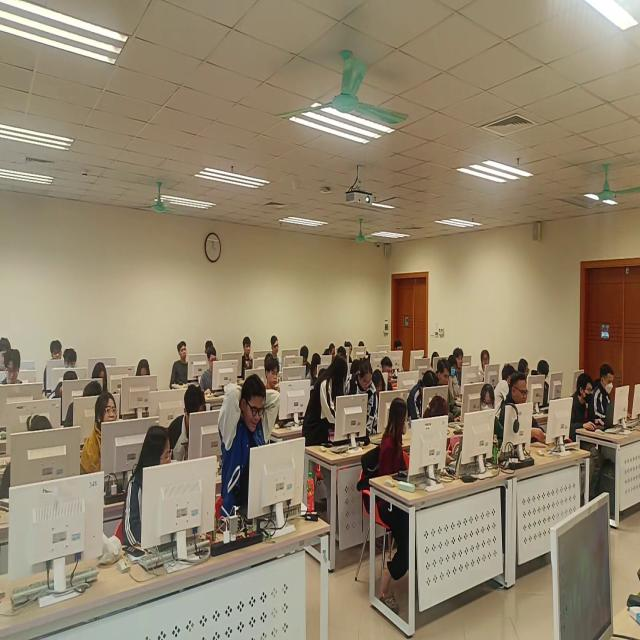raise_head: (90, 398, 135, 482), (170, 341, 202, 394), (239, 337, 259, 383), (480, 349, 500, 390), (47, 338, 67, 365), (270, 335, 286, 361), (452, 349, 467, 371)
stand: (304, 359, 352, 501)
using_computer: (220, 390, 288, 513), (6, 417, 70, 496), (503, 376, 563, 454), (169, 391, 222, 473), (564, 376, 611, 457), (5, 350, 44, 412), (598, 366, 635, 429), (349, 364, 377, 440), (477, 387, 505, 463), (439, 363, 473, 425), (199, 355, 236, 400), (128, 357, 161, 405), (380, 356, 415, 396), (87, 362, 123, 400), (74, 383, 104, 428), (535, 362, 562, 410), (51, 370, 80, 411)
using_phone: (423, 393, 463, 480), (260, 357, 299, 425)
